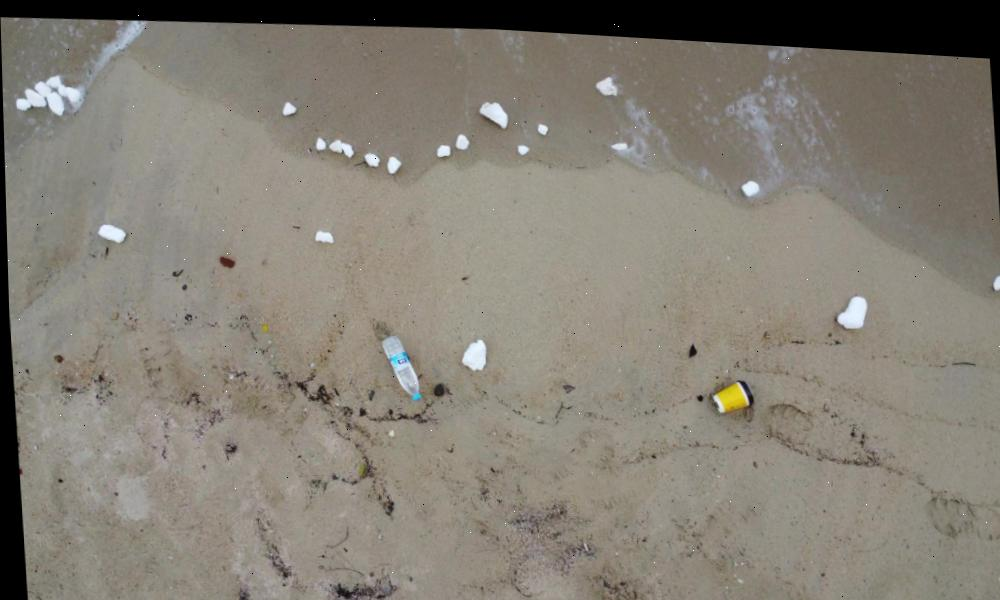carton: (706, 364, 755, 411)
plastic bottle: (383, 327, 422, 400)
styrofoam: (307, 127, 409, 170), (11, 62, 93, 113), (448, 326, 494, 366), (516, 116, 562, 154), (828, 285, 874, 320), (90, 215, 134, 246), (603, 119, 652, 146), (431, 127, 473, 152), (476, 93, 516, 119), (589, 69, 622, 92), (269, 98, 304, 119), (738, 166, 761, 188), (312, 223, 339, 237)
